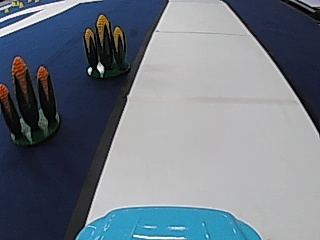corn: (1, 56, 63, 145), (81, 11, 131, 77)
